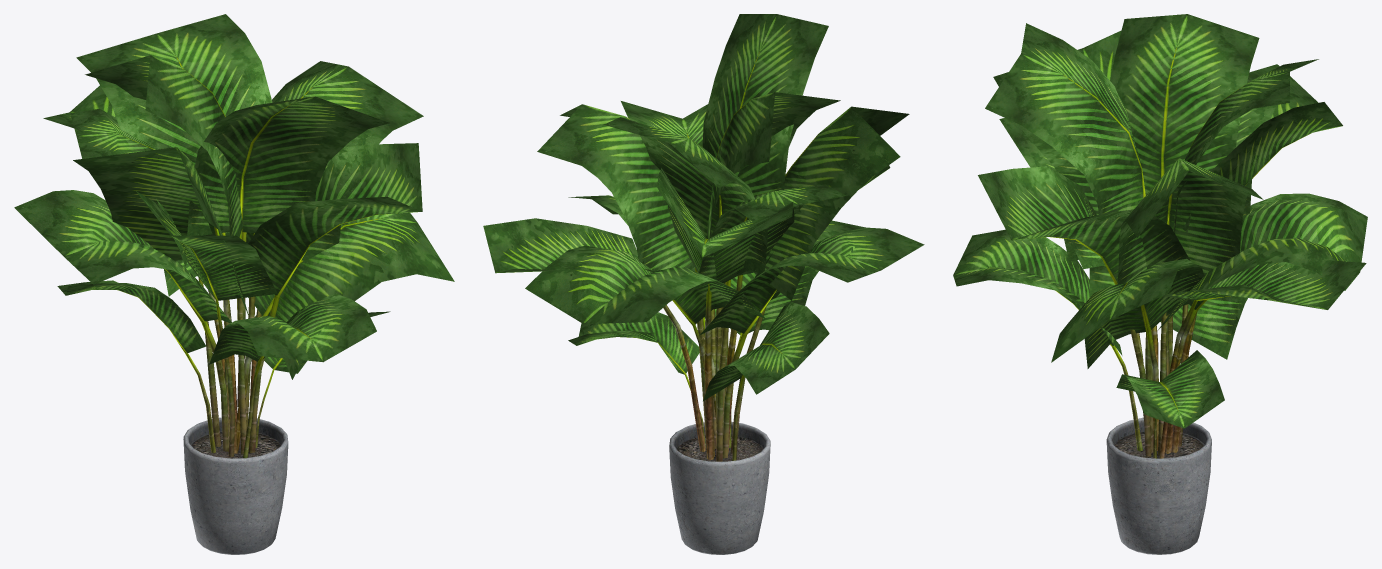
File: Furniture_foliageplant_01_LOD0.fbx
The picture shows the model from 3 angles, left to right: view 1: azimuth 30°, elevation 25°; view 2: azimuth 150°, elevation 25°; view 3: azimuth 270°, elevation 25°; orthographic projection. The views are drawn at different scales.
Visible parts, largest first — view 1: foliageplant_01_B1, foliageplant_01_A; view 2: foliageplant_01_B1, foliageplant_01_A; view 3: foliageplant_01_B1, foliageplant_01_A.
Boxes of the visible parts, x1,y1,x2,y2 form: foliageplant_01_B1: [14, 14, 454, 458]; foliageplant_01_A: [183, 417, 288, 554]; foliageplant_01_B1: [483, 14, 924, 461]; foliageplant_01_A: [669, 421, 770, 554]; foliageplant_01_B1: [953, 14, 1367, 458]; foliageplant_01_A: [1106, 417, 1211, 554].
Bounding box in the file's own units: 1.42 × 1.87 × 1.43.
2 materials, 2 textured.
